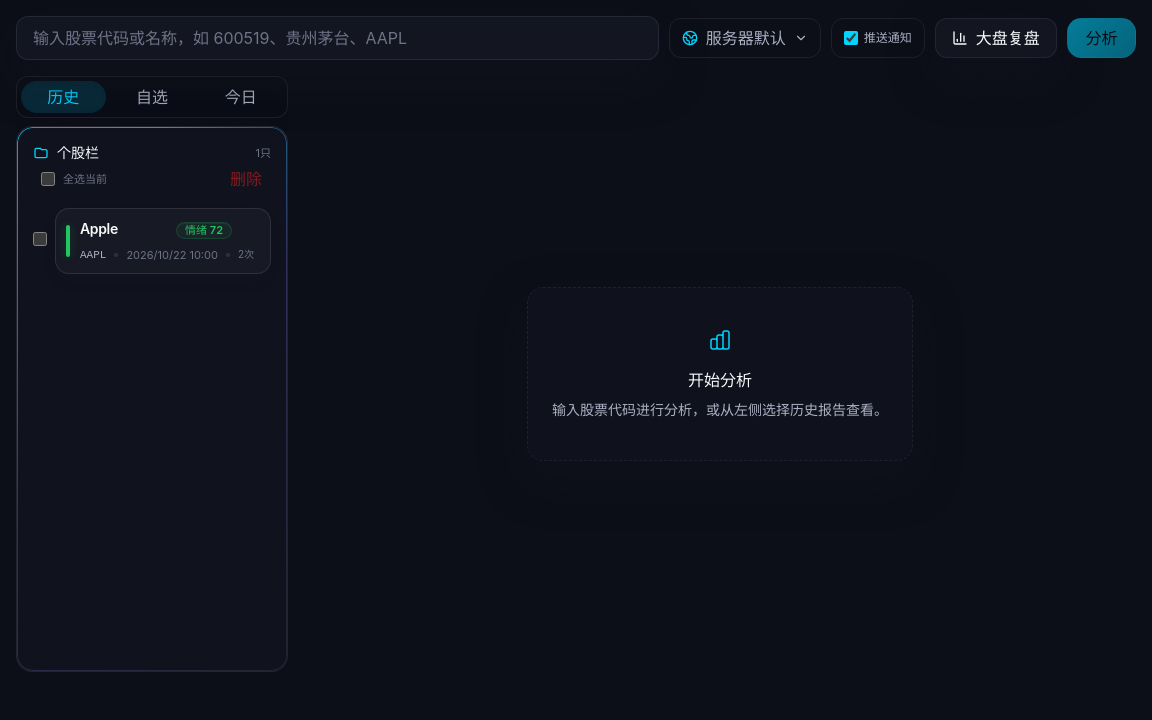
Test: HomePage › shows an error instead of capped stock-bar fallback when Today ranking load fails
This screenshot has width=1152, height=720.
Click the button "今日": x=241, y=97 [198,81,283,113]
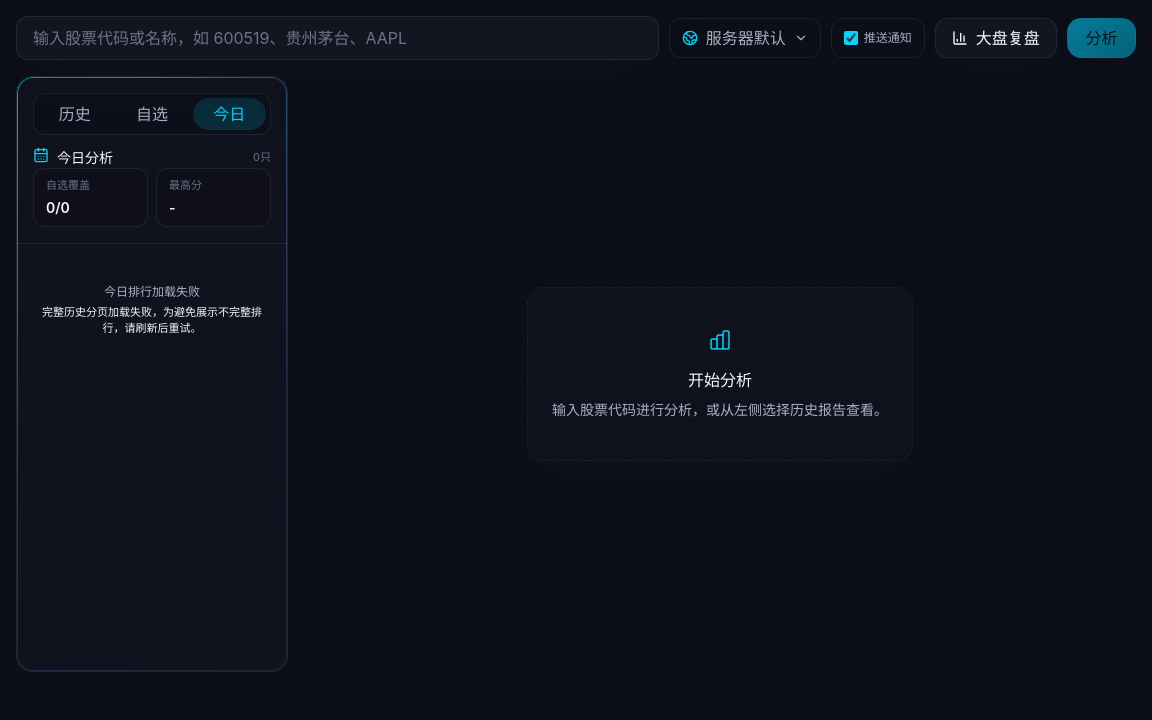
Expected: the text "今日排行加载失败" is shown, [104,284,200,298]
Expected: the button "Apple" is gone
